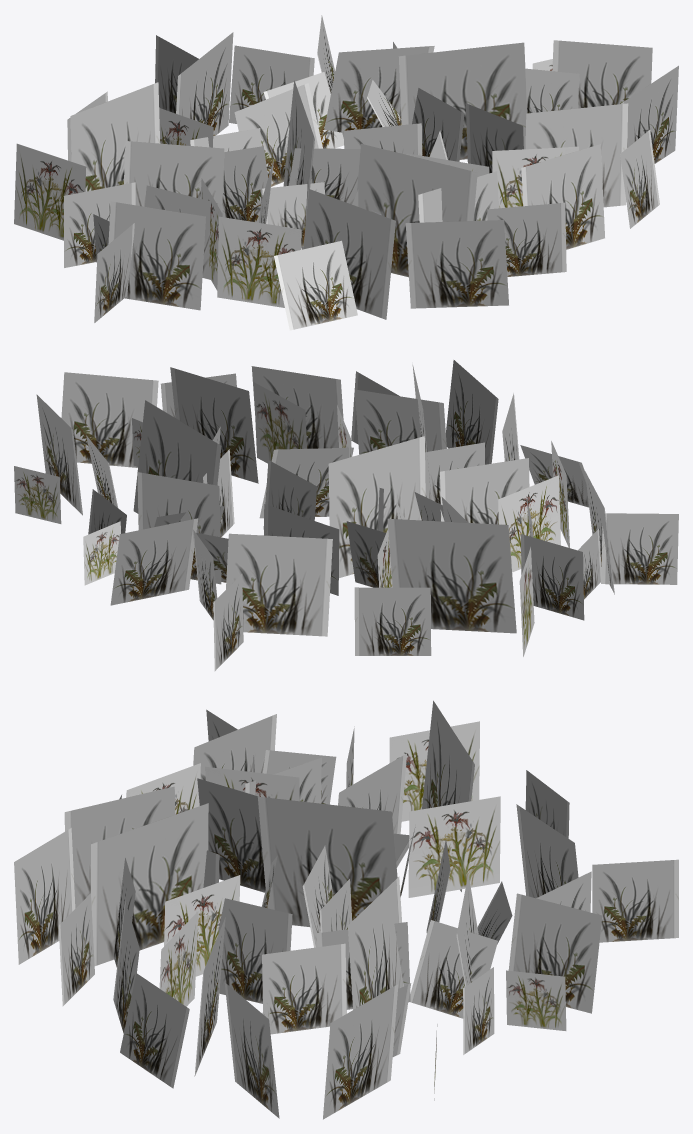
Rendered from FOL_BRGrass02.FBX.
3 renders of one model, top to bottom at view 1: azimuth 30°, elevation 25°; view 2: azimuth 150°, elevation 25°; view 3: azimuth 270°, elevation 25°, orthographic. The views are drawn at different scales.
Parts seen in each view (by area): view 1: FOL_BRGrass02; view 2: FOL_BRGrass02; view 3: FOL_BRGrass02.
Boxes of the visible parts, left/top/right/bottom form: FOL_BRGrass02: left=14, top=15, right=678, bottom=330; FOL_BRGrass02: left=14, top=360, right=678, bottom=671; FOL_BRGrass02: left=14, top=700, right=678, bottom=1119.
Bounding box in the file's own units: 646 × 131 × 547.
